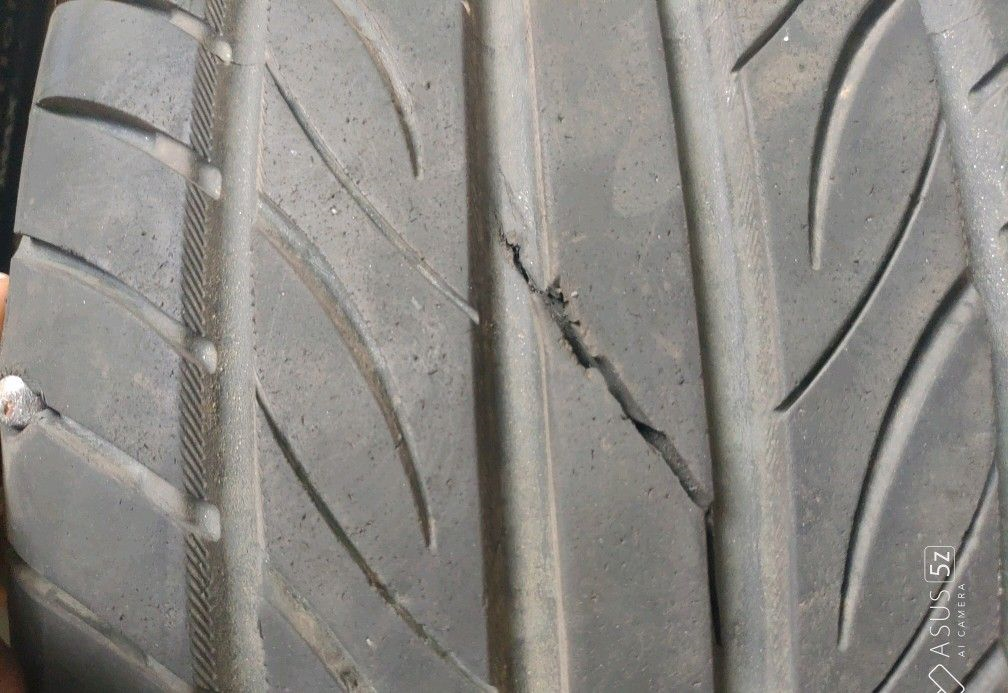tr: (492, 205, 725, 529)
